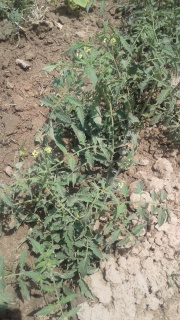tomato flower: (70, 41, 94, 63), (102, 36, 119, 48), (41, 142, 56, 155), (30, 147, 42, 163)
tomato plant: (40, 92, 123, 248), (9, 177, 92, 316), (105, 2, 178, 146)
